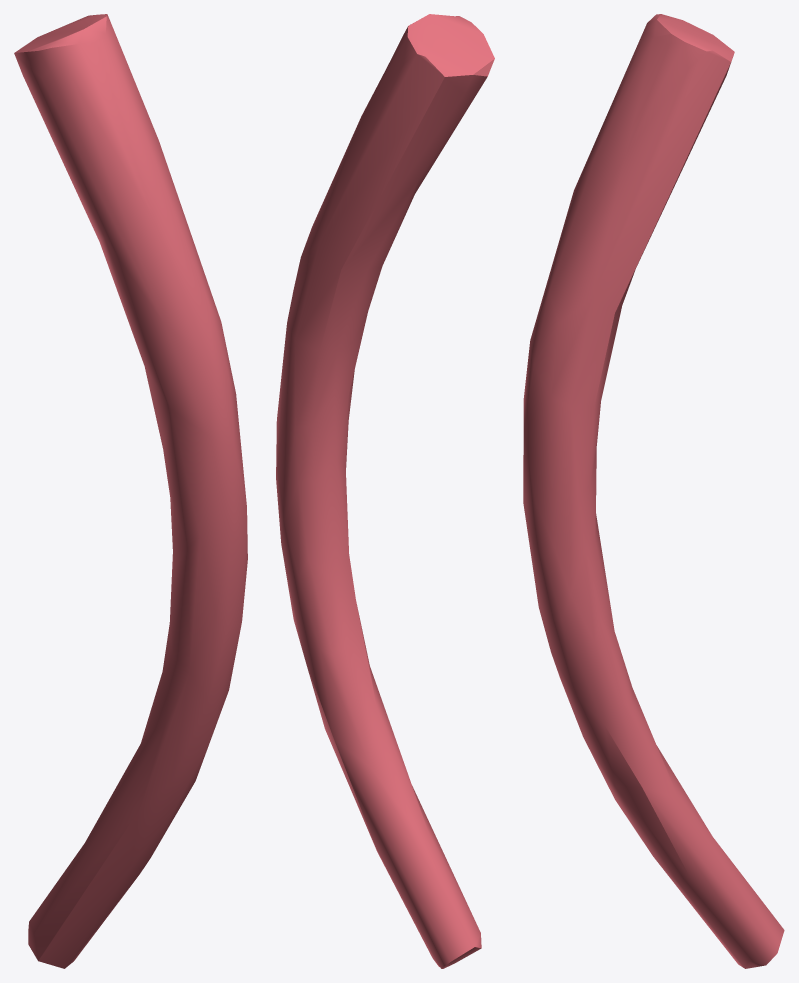
File: fma8646_fj2923.glb
3 renders of one model, left to right at view 1: azimuth 30°, elevation 25°; view 2: azimuth 210°, elevation 25°; view 3: azimuth 270°, elevation 25°, orthographic. The views are drawn at different scales.
Visible parts, largest first — view 1: FMA8646_FJ2923; view 2: FMA8646_FJ2923; view 3: FMA8646_FJ2923.
Part boxes in pixels (bbox=[...]): FMA8646_FJ2923: bbox=[14, 14, 247, 968]; FMA8646_FJ2923: bbox=[276, 14, 494, 968]; FMA8646_FJ2923: bbox=[523, 14, 784, 968].
Size of the model in its own units: 0.00587 by 0.0353 by 0.00894.
